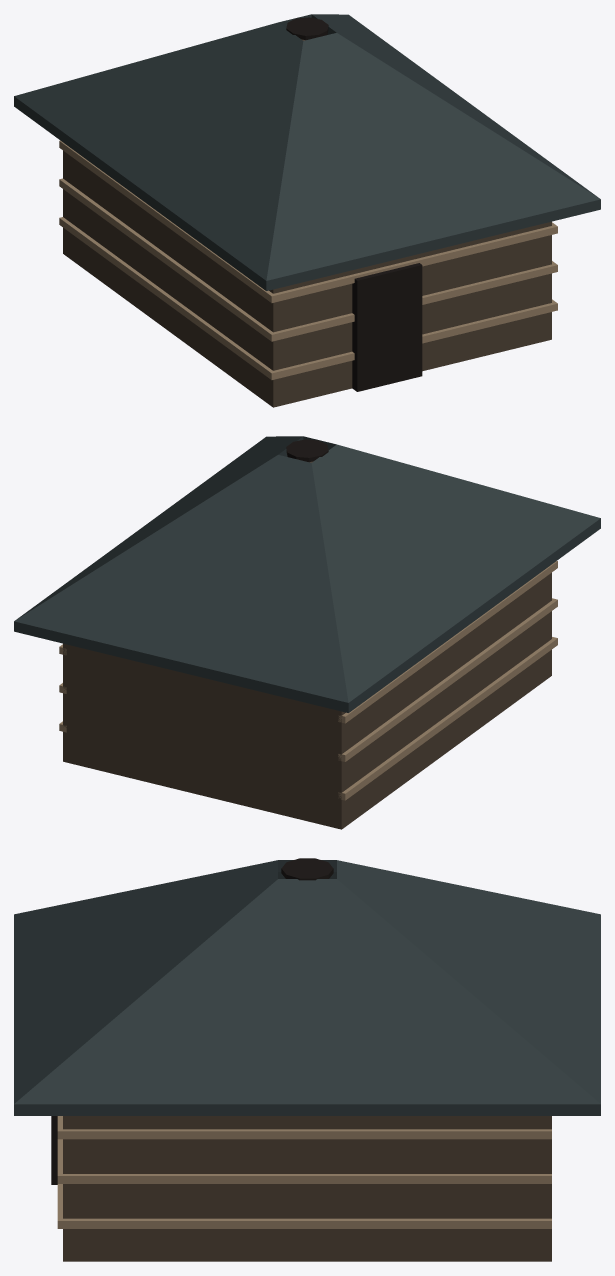
The model's file is VerHut07.glb.
The picture shows the model from 3 angles, top to bottom: view 1: azimuth 30°, elevation 25°; view 2: azimuth 150°, elevation 25°; view 3: azimuth 270°, elevation 25°; orthographic projection. The views are drawn at different scales.
Parts seen in each view (by area): view 1: VerHut07_log; view 2: VerHut07_log; view 3: VerHut07_log.
Boxes of the visible parts, <box> form: VerHut07_log: <box>14,14,600,407</box>; VerHut07_log: <box>14,436,600,829</box>; VerHut07_log: <box>14,858,600,1261</box>.
Size of the model in its own units: 3.6 by 2.78 by 4.7.
